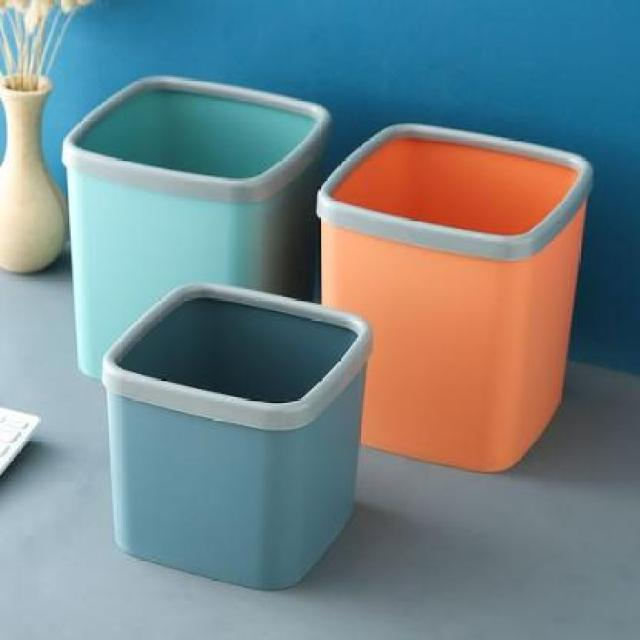dustbin: (312, 118, 598, 477), (97, 277, 378, 595), (58, 71, 334, 386)
